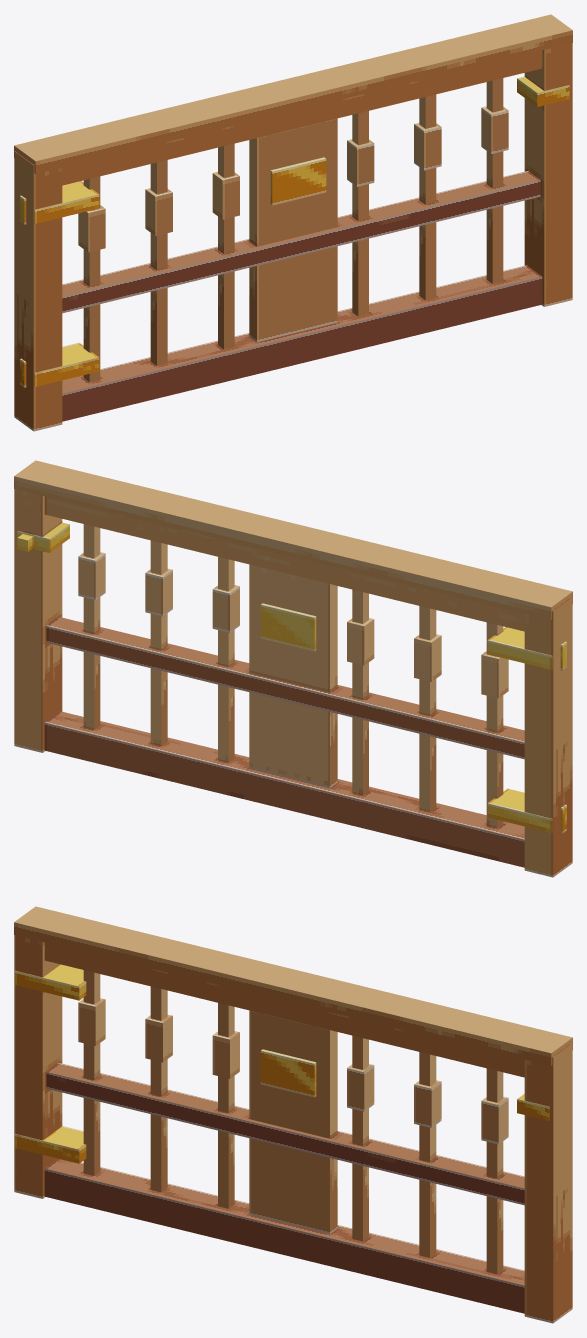
File: gate.gltf
3 views of the same model, one above another, from view 1: azimuth 30°, elevation 25°; view 2: azimuth 150°, elevation 25°; view 3: azimuth 330°, elevation 25° (orthographic).
Visible parts, largest first — view 1: bottom_rail, top_rail_cap, panel_centre, mid_rail, stile_hinge, stile_latch, top_rail, baluster6_shaft, baluster7_shaft, baluster2_shaft, baluster3_shaft, baluster5_shaft (+11 smaller); view 2: bottom_rail, top_rail_cap, panel_centre, mid_rail, stile_hinge, stile_latch, top_rail, baluster6_shaft, baluster7_shaft, baluster2_shaft, baluster3_shaft, baluster5_shaft (+11 smaller); view 3: bottom_rail, top_rail_cap, panel_centre, mid_rail, stile_latch, stile_hinge, top_rail, baluster2_shaft, baluster7_shaft, baluster6_shaft, baluster1_shaft, baluster5_shaft (+10 smaller).
Boxes of the visible parts, x1,y1,x2,y2 form: bottom_rail: (62, 265, 542, 421); top_rail_cap: (14, 14, 572, 173); panel_centre: (249, 118, 337, 342); mid_rail: (62, 171, 540, 313); stile_hinge: (14, 151, 62, 431); stile_latch: (524, 43, 572, 306); top_rail: (62, 50, 542, 185); baluster6_shaft: (419, 94, 436, 300); baluster7_shaft: (486, 78, 503, 283); baluster2_shaft: (150, 160, 167, 365); baluster3_shaft: (218, 143, 234, 349); baluster5_shaft: (352, 111, 368, 316); bottom_rail: (44, 711, 524, 867); top_rail_cap: (14, 460, 572, 619); panel_centre: (249, 564, 337, 788); mid_rail: (46, 617, 524, 759); stile_hinge: (524, 597, 572, 877); stile_latch: (14, 489, 62, 752); top_rail: (44, 496, 524, 631); baluster6_shaft: (150, 540, 167, 746); baluster7_shaft: (83, 524, 100, 729); baluster2_shaft: (419, 606, 436, 811); baluster3_shaft: (352, 589, 368, 795); baluster5_shaft: (218, 557, 234, 762); bottom_rail: (44, 1158, 524, 1313); top_rail_cap: (14, 906, 572, 1065); panel_centre: (249, 1010, 337, 1234); mid_rail: (46, 1063, 524, 1205); stile_latch: (524, 1043, 572, 1323); stile_hinge: (14, 935, 62, 1198); top_rail: (44, 942, 524, 1077); baluster2_shaft: (150, 986, 167, 1192); baluster7_shaft: (486, 1068, 503, 1274); baluster6_shaft: (419, 1052, 436, 1257); baluster1_shaft: (83, 970, 100, 1175); baluster5_shaft: (352, 1035, 368, 1241).
Bounding box in the file's own units: 2.01 × 0.9631 × 0.17.
2 materials, 2 textured.
